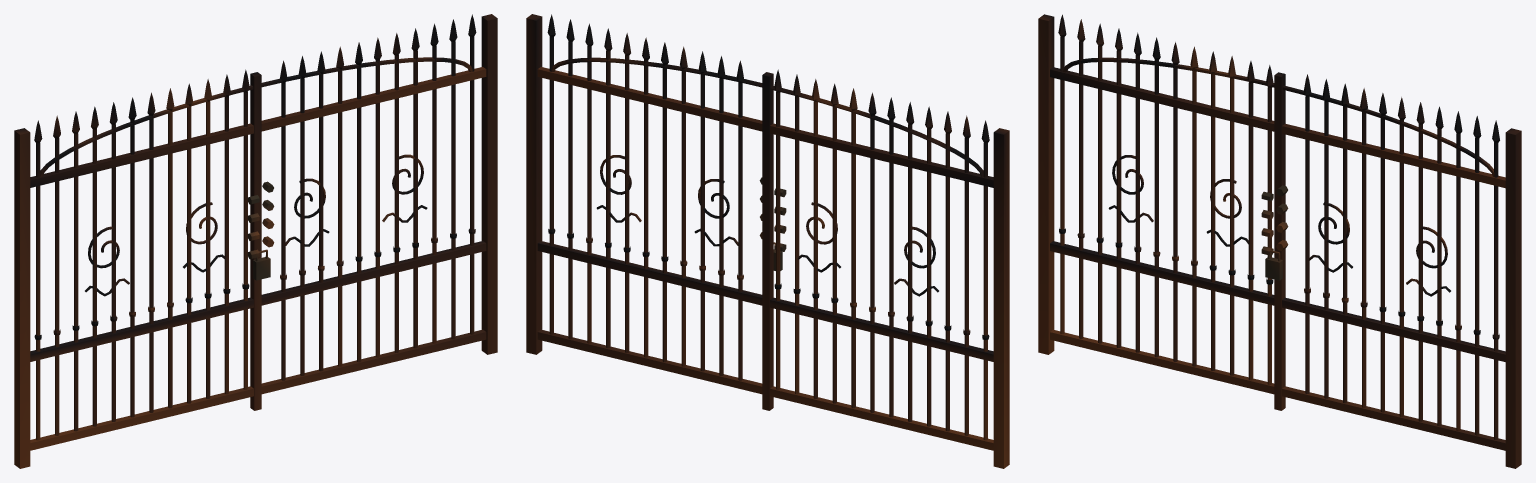
Rendered from gate-catacombs.glb.
3 views of the same model, side by side, from view 1: azimuth 30°, elevation 25°; view 2: azimuth 150°, elevation 25°; view 3: azimuth 330°, elevation 25° (orthographic).
Parts seen in each view (by area): view 1: gate-catacombs-iron; view 2: gate-catacombs-iron; view 3: gate-catacombs-iron.
Boxes of the visible parts, x1,y1,x2,y2 form: gate-catacombs-iron: (14,14,497,468); gate-catacombs-iron: (526,14,1009,468); gate-catacombs-iron: (1038,14,1521,468).
Bounding box in the file's own units: 3.29 × 2.25 × 0.1249.
